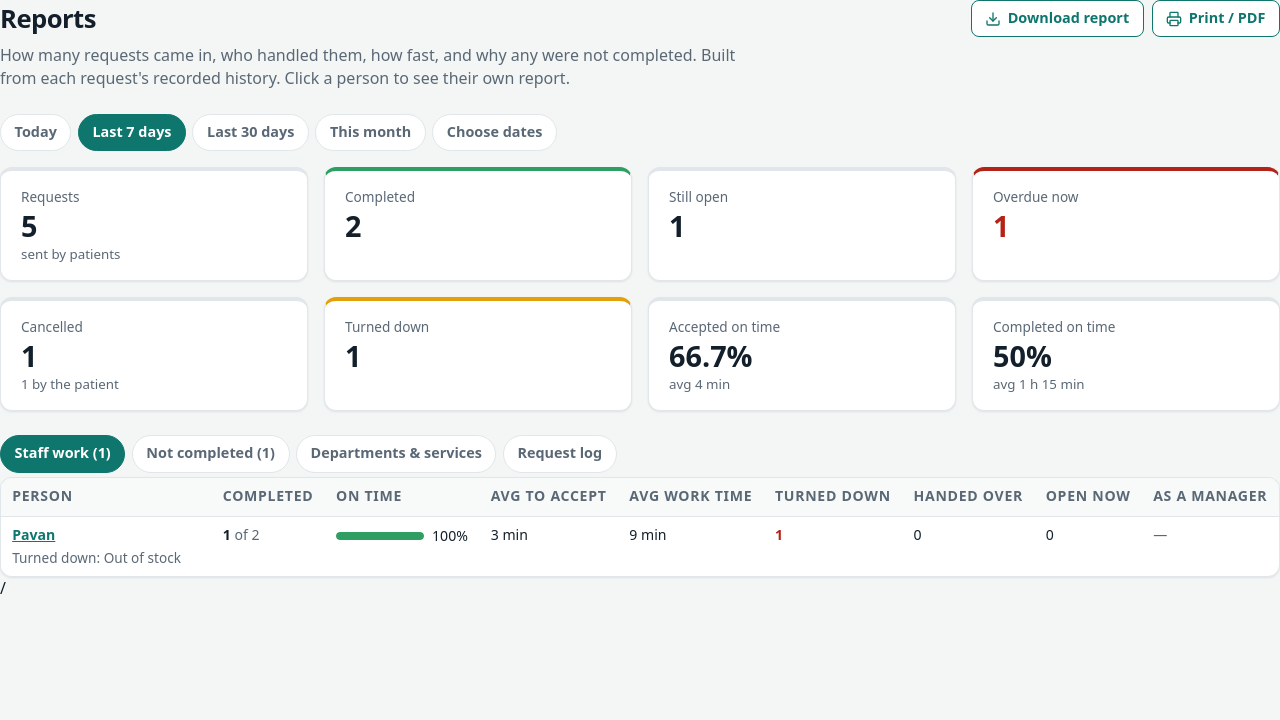
Test case: Reports › explains why requests were not completed and shows the full history
Click the button "Not completed (1)": (211, 454) [132,435,290,473]
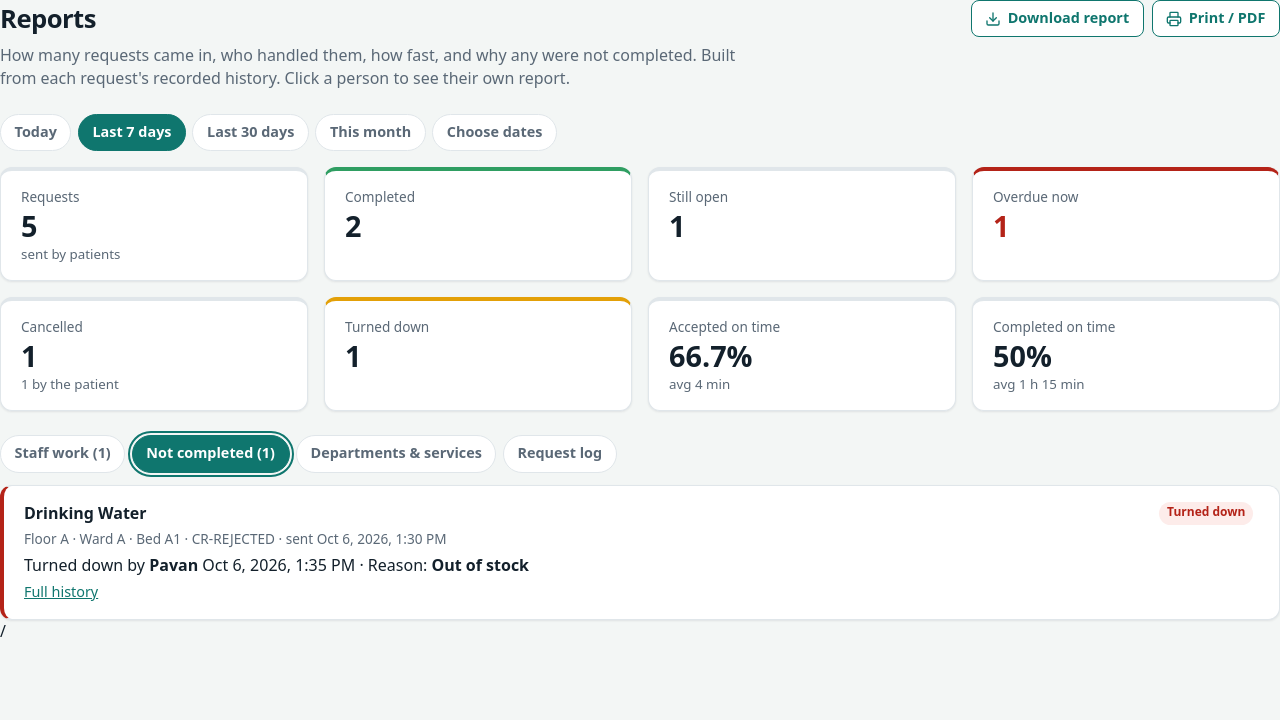
Result: the list item shows "Turned down by Pavan" at [0,484,1279,620]
Result: the list item shows "Reason: Out of stock" at [0,484,1279,620]
Click the button "Full history": (61, 592) [24,582,98,603]
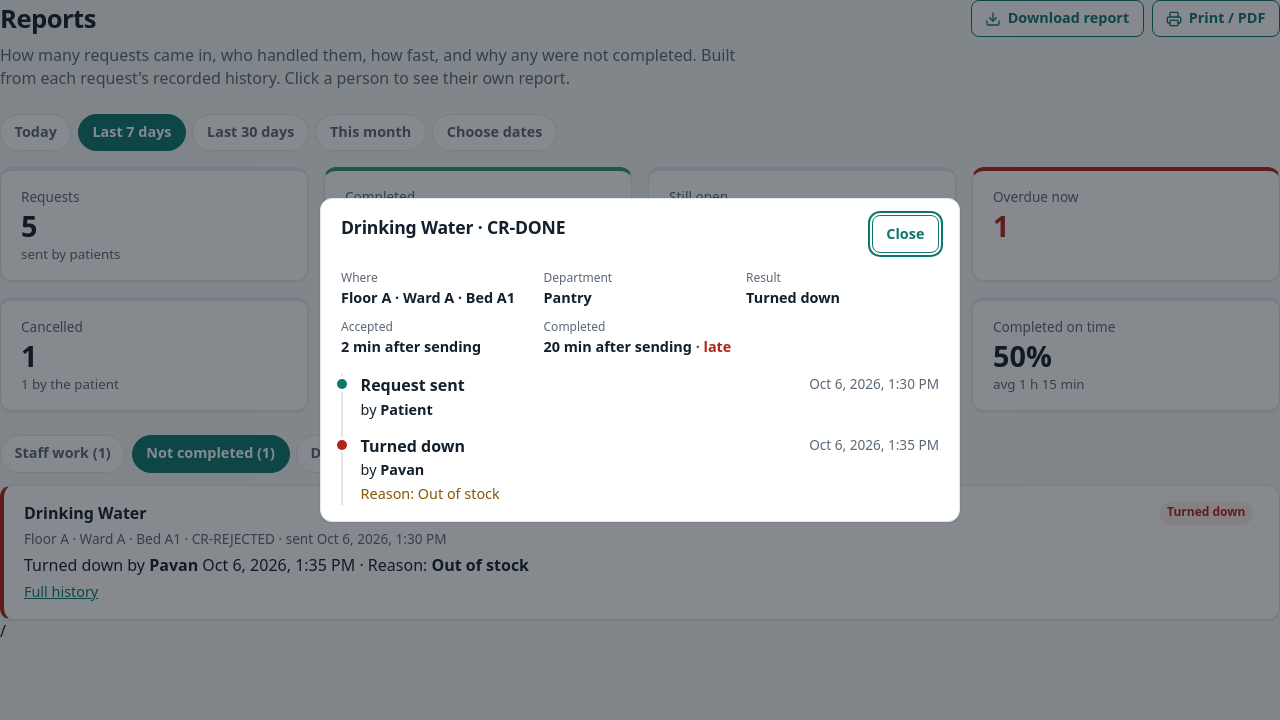
Result: the text "Request sent" is shown at [361,374,465,397]
Result: the text "Reason: Out of stock" is shown at [361,484,500,503]
